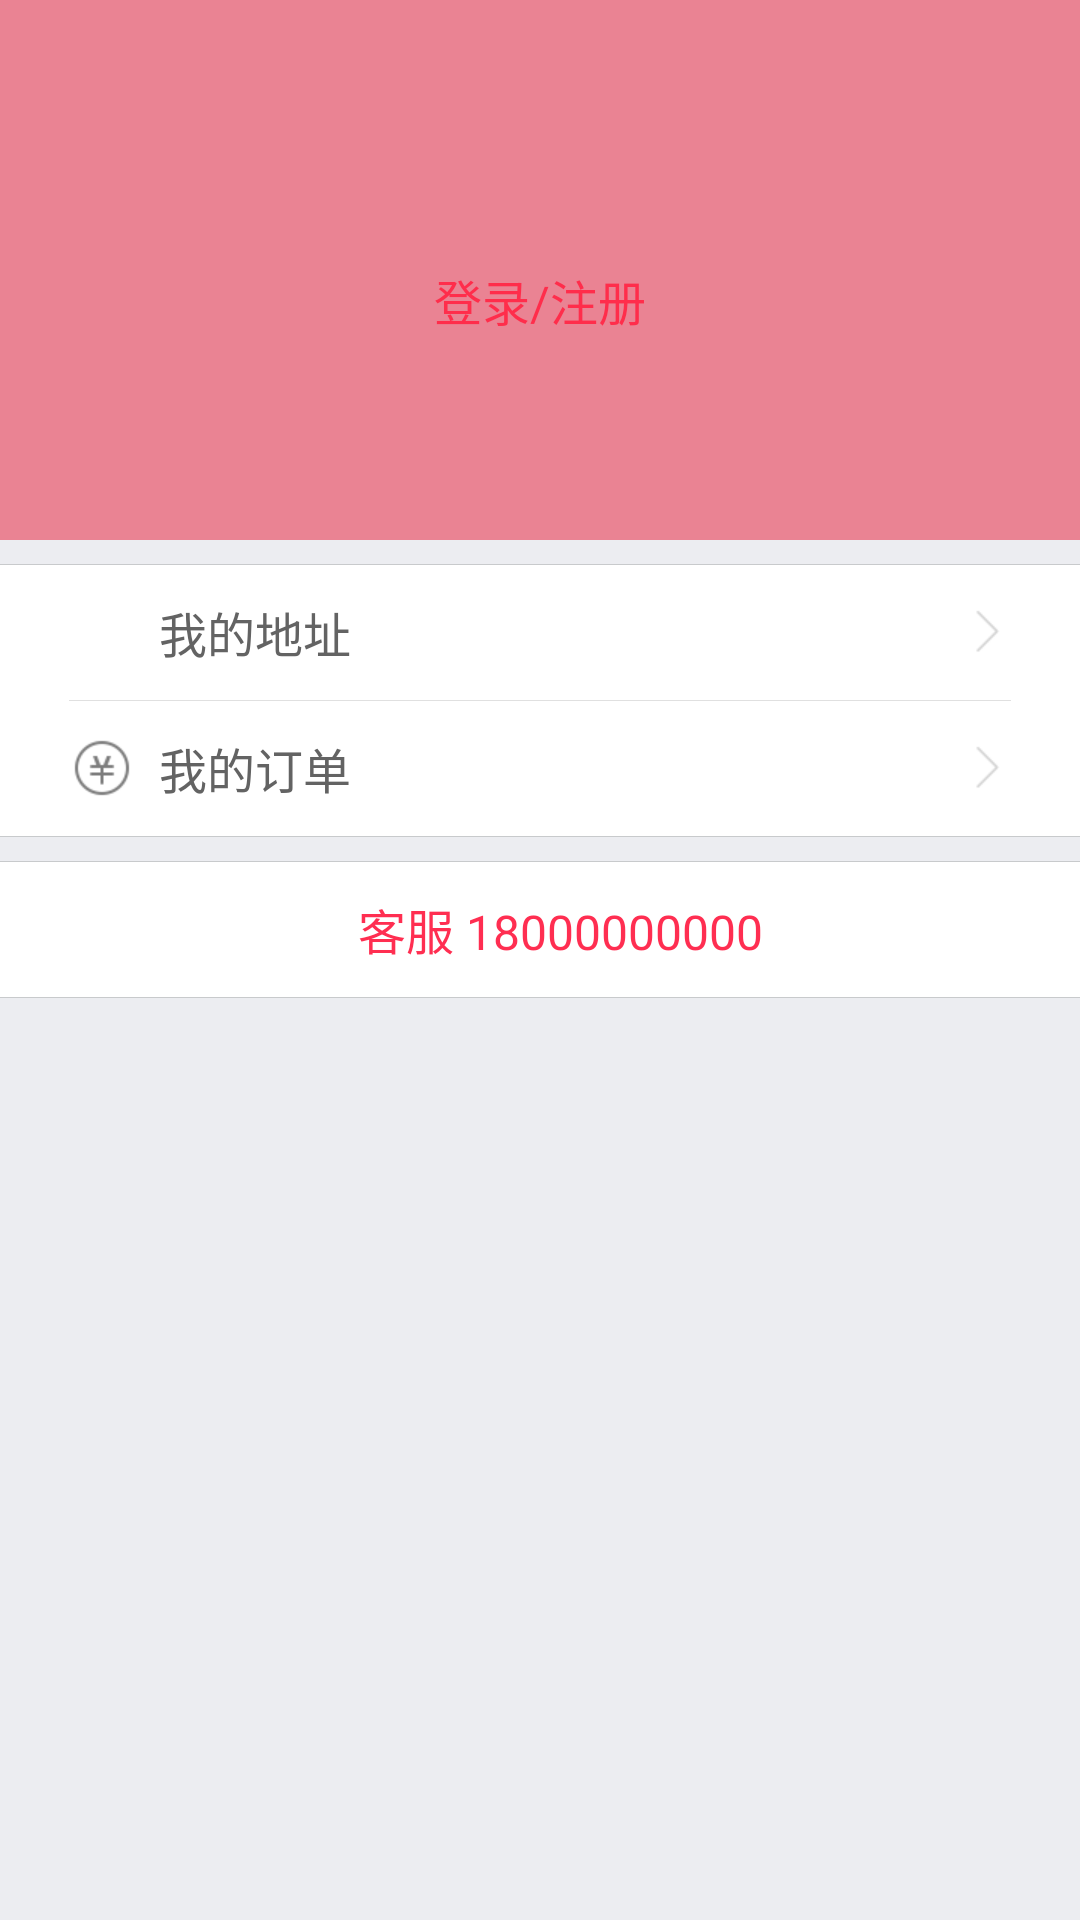

Icon click points for this 1080px×1920px phone screenshot, format point (x, y):
mypage list arrow: point (987, 631), point (987, 767)
mypage list daijinjuan: point (102, 768)
